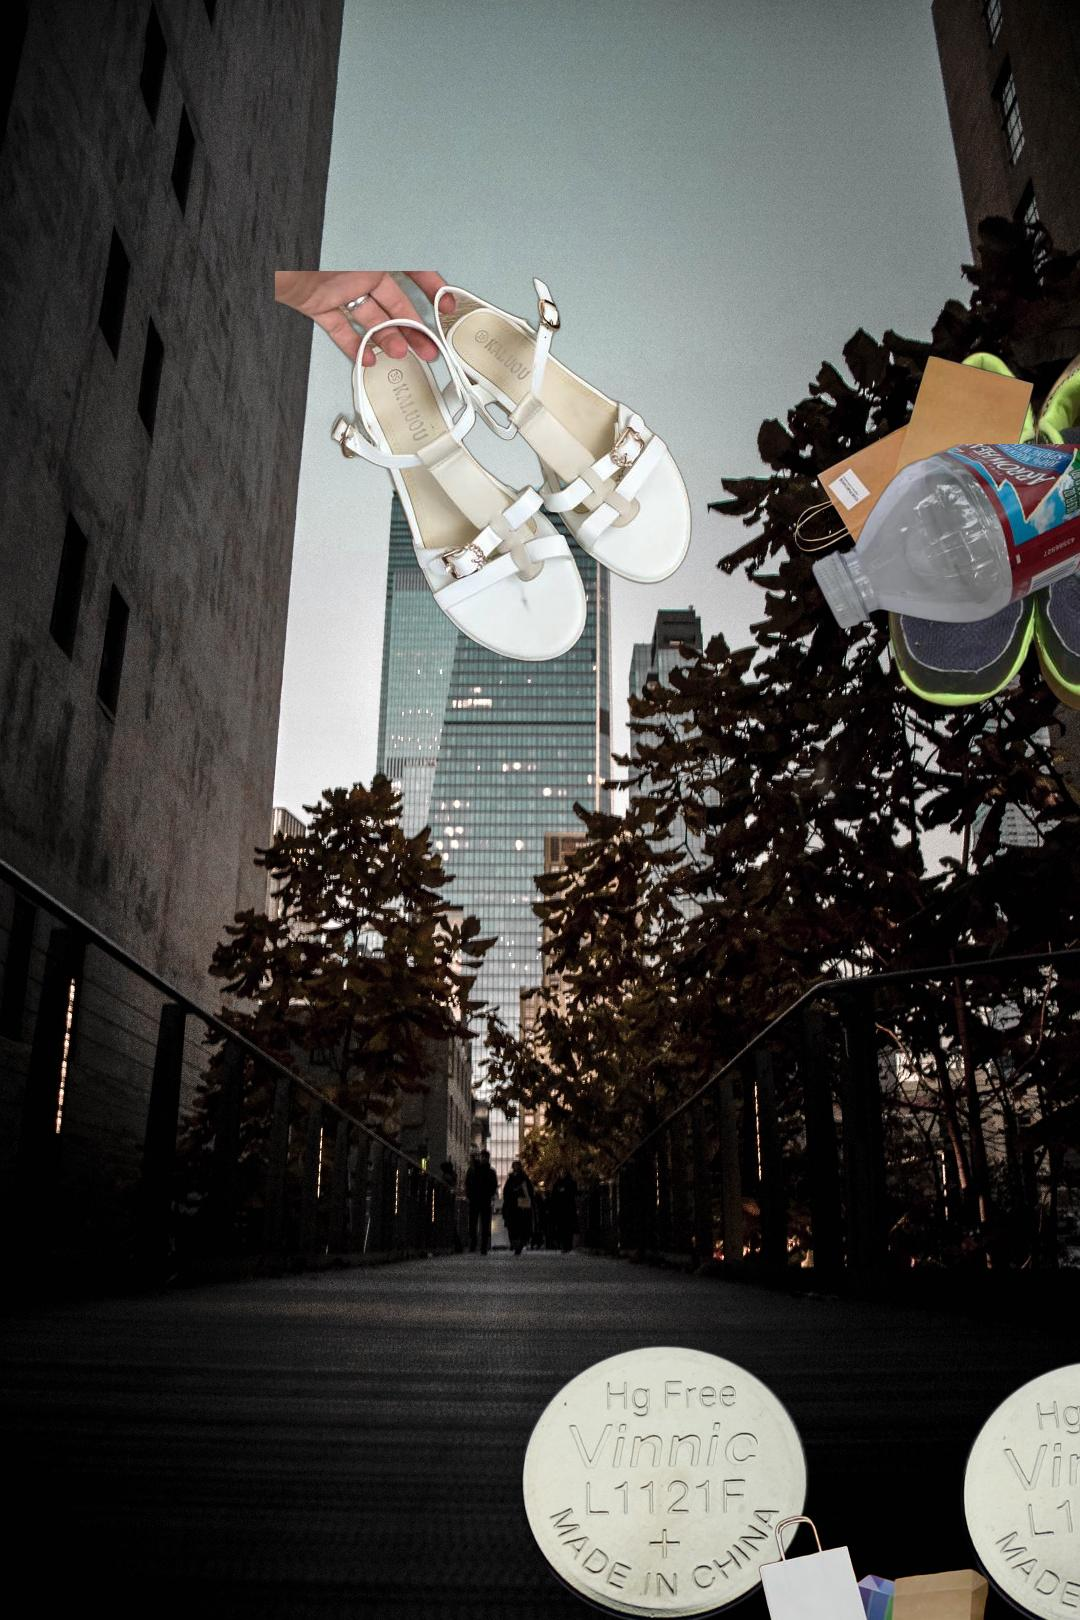battery: (515, 1342, 1080, 1620)
clothes: (275, 271, 695, 665)
paper-bag: (793, 354, 1037, 571), (756, 1514, 994, 1620)
plastic-bottles: (808, 444, 1080, 633)
shoes: (884, 341, 1080, 718)
trashbox-cardboard: (509, 530, 1080, 1051)
